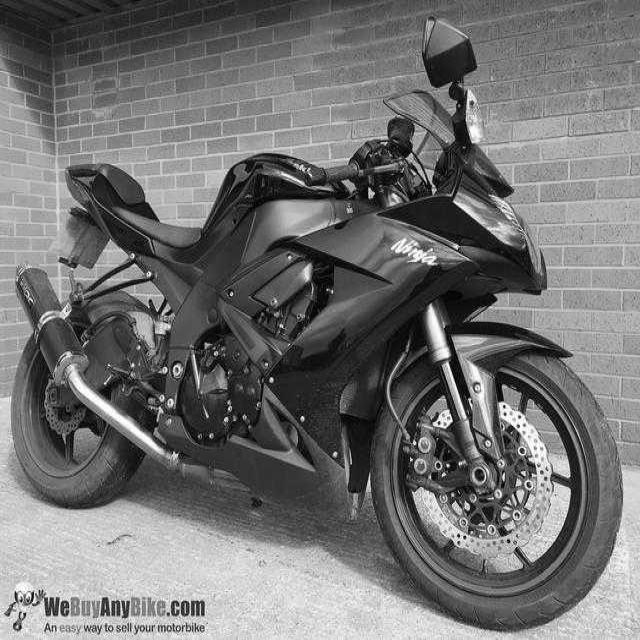Motorcycle: (11, 20, 621, 628)
